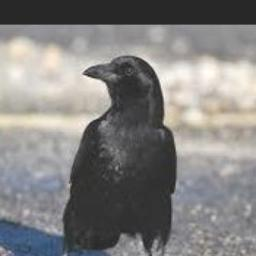Crow: (53, 55, 176, 256)
